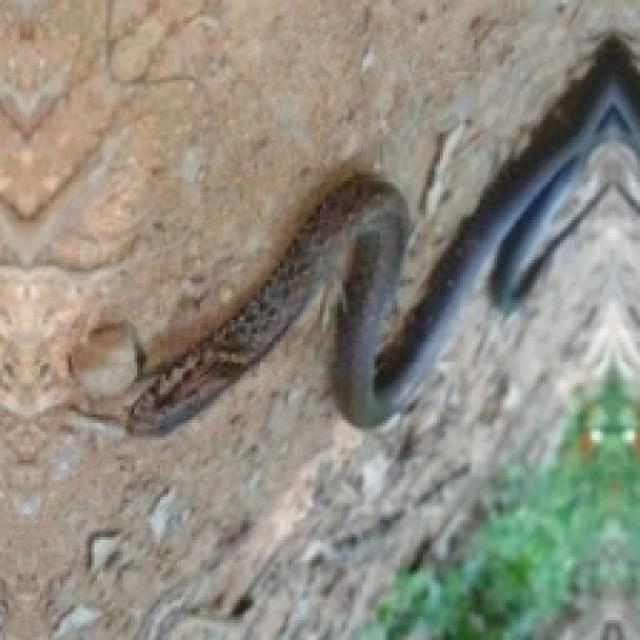reinhardts lined snake: (120, 34, 637, 431), (374, 34, 637, 414), (117, 174, 406, 431)
